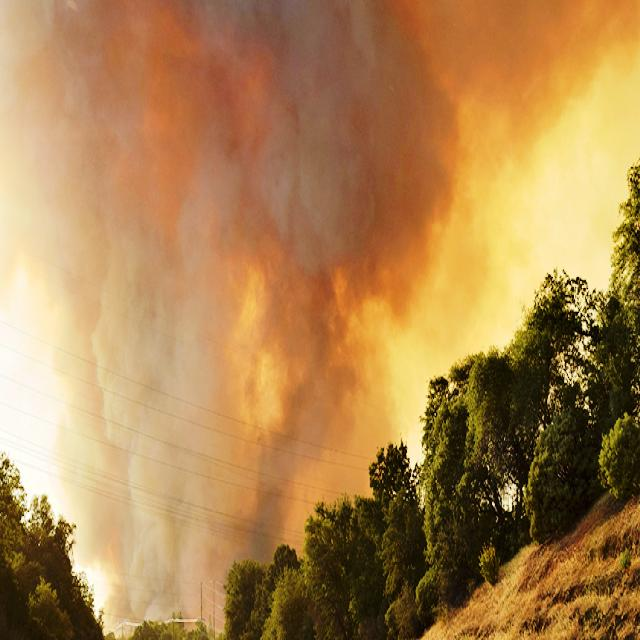asap: (2, 1, 640, 638)
